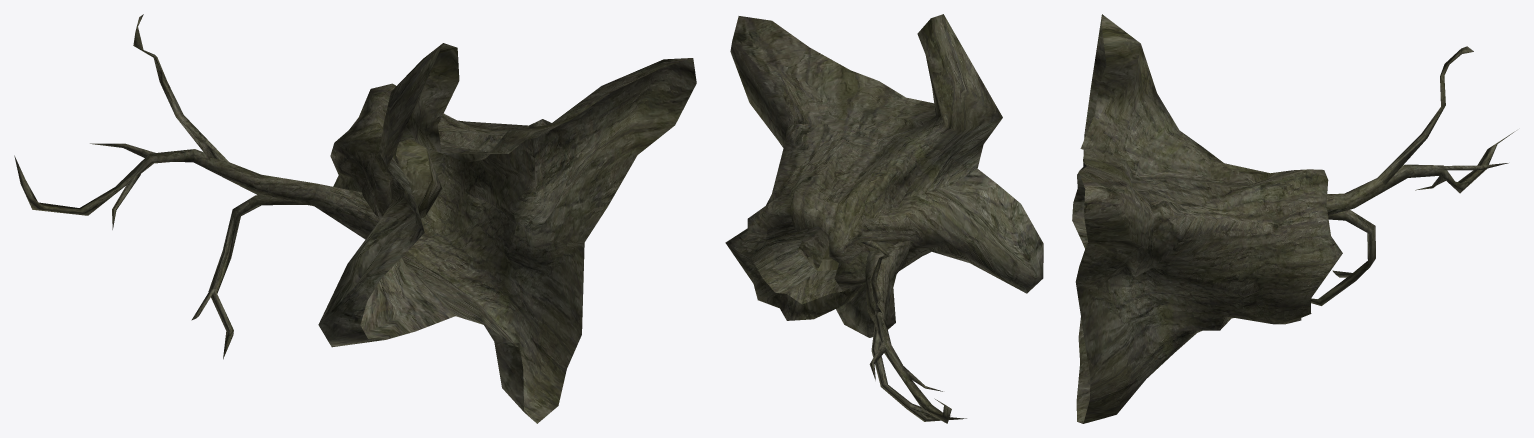
The model's file is TI_Old_Tree_08_LOD_01.fbx.
3 views of the same model, side by side, from view 1: azimuth 30°, elevation 25°; view 2: azimuth 150°, elevation 25°; view 3: azimuth 270°, elevation 25° (orthographic). The views are drawn at different scales.
Parts seen in each view (by area): view 1: TI_Old_Tree_08_LOD_01; view 2: TI_Old_Tree_08_LOD_01; view 3: TI_Old_Tree_08_LOD_01.
Part boxes in pixels (bbox=[...]): TI_Old_Tree_08_LOD_01: bbox=[14, 14, 696, 423]; TI_Old_Tree_08_LOD_01: bbox=[725, 14, 1043, 423]; TI_Old_Tree_08_LOD_01: bbox=[1072, 14, 1516, 423].
Size of the model in its own units: 4.43 by 3.61 by 3.96.
